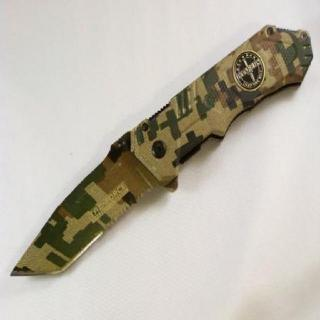knife: (6, 113, 176, 283)
